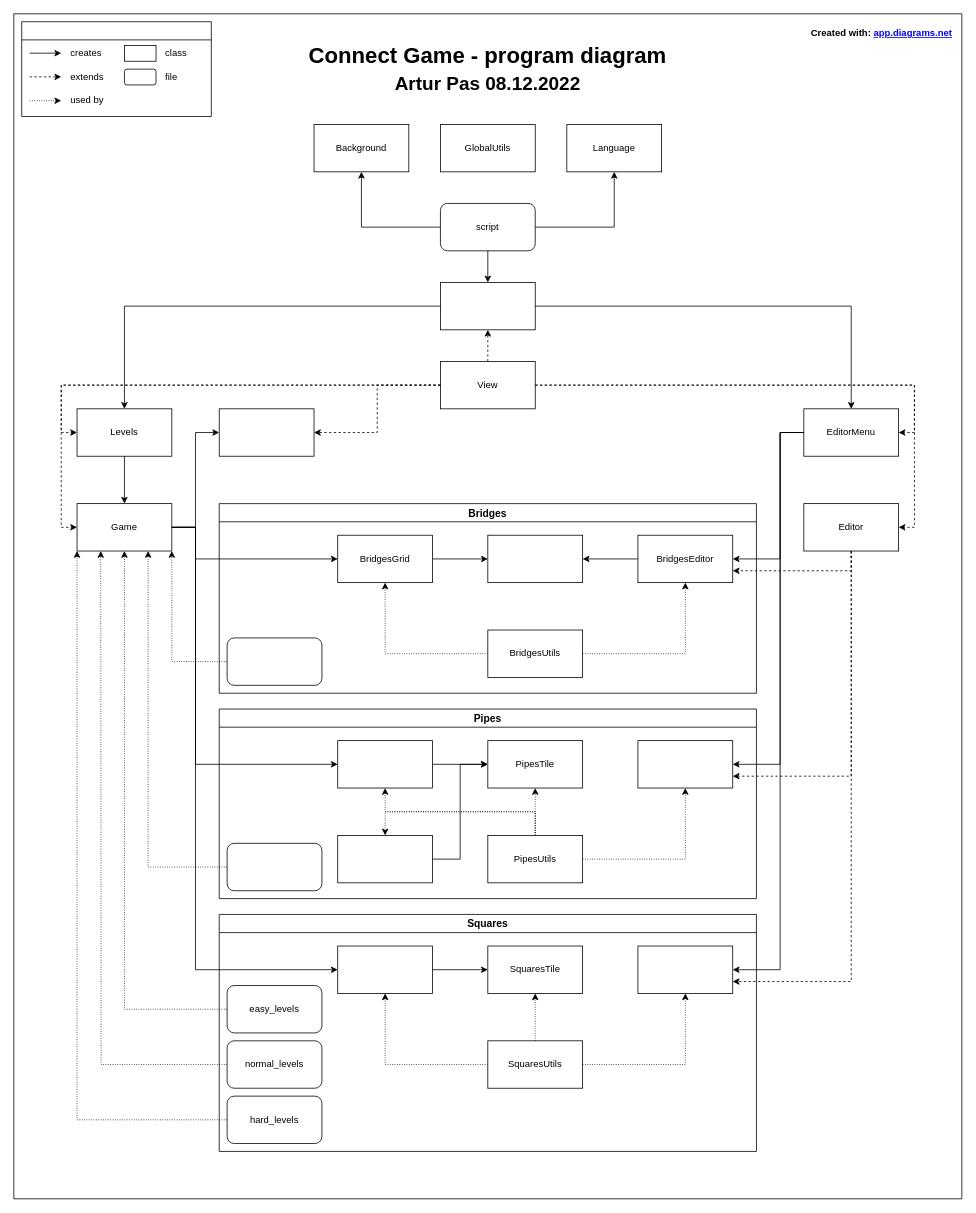
Image size: 976x1213. Some labels were removed from this diagram. Here are the shapes that lost their labels. From the top down, the box of each, then its label:
(21, 21, 211, 117): Legend
(440, 282, 535, 330): Menu
(218, 408, 314, 456): Rules
(487, 534, 583, 583): BridgesIsland
(226, 637, 322, 685): bridges_levels
(337, 740, 433, 788): PipesGrid
(637, 740, 733, 788): PipesEditor
(226, 843, 322, 891): pipes_levels
(337, 835, 433, 883): SlidersGrid
(337, 945, 433, 993): SquaresGrid
(637, 945, 733, 993): SquaresEditor
